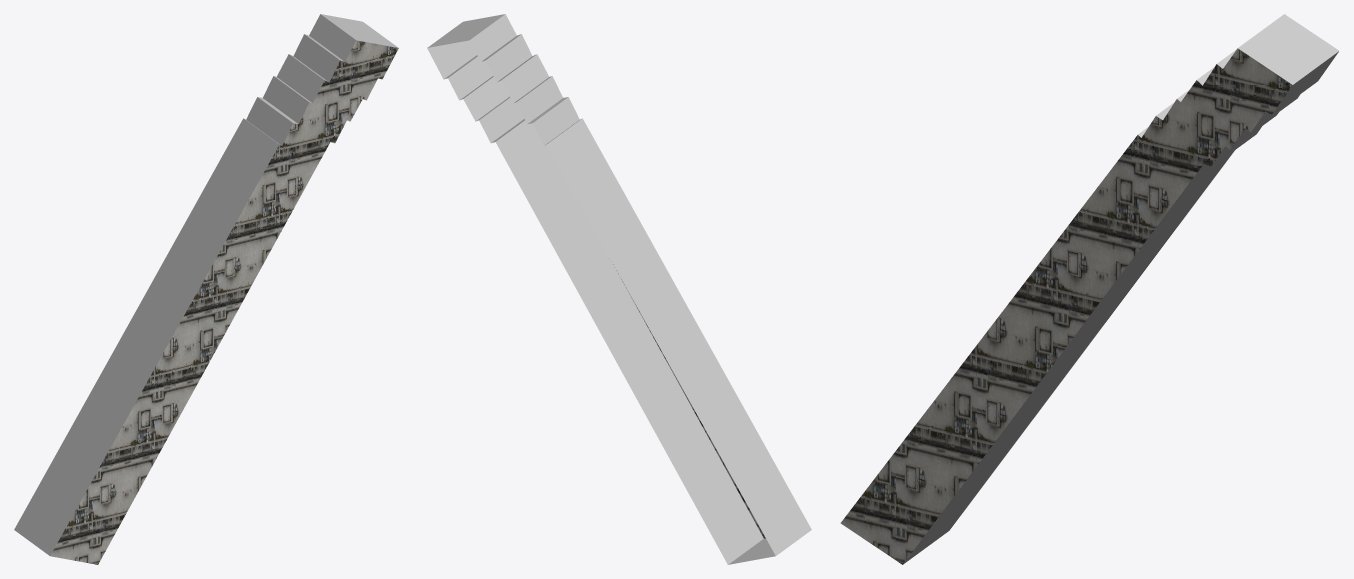
Rendered from geospecific_2143.obj.
3 renders of one model, left to right at view 1: azimuth 30°, elevation 25°; view 2: azimuth 150°, elevation 25°; view 3: azimuth 330°, elevation 25°, orthographic. The views are drawn at different scales.
Parts seen in each view (by area): view 1: Building; view 2: Building; view 3: Building.
Part boxes in pixels (left/top/right/bottom): Building: left=14, top=14, right=398, bottom=564; Building: left=427, top=14, right=811, bottom=564; Building: left=840, top=14, right=1338, bottom=564.
Bounding box in the file's own units: 83.85 × 106 × 15.
